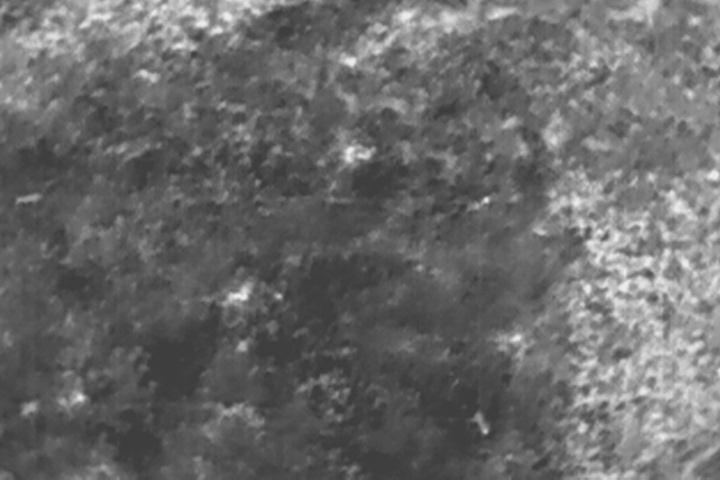landmine: (225, 280, 255, 308)
